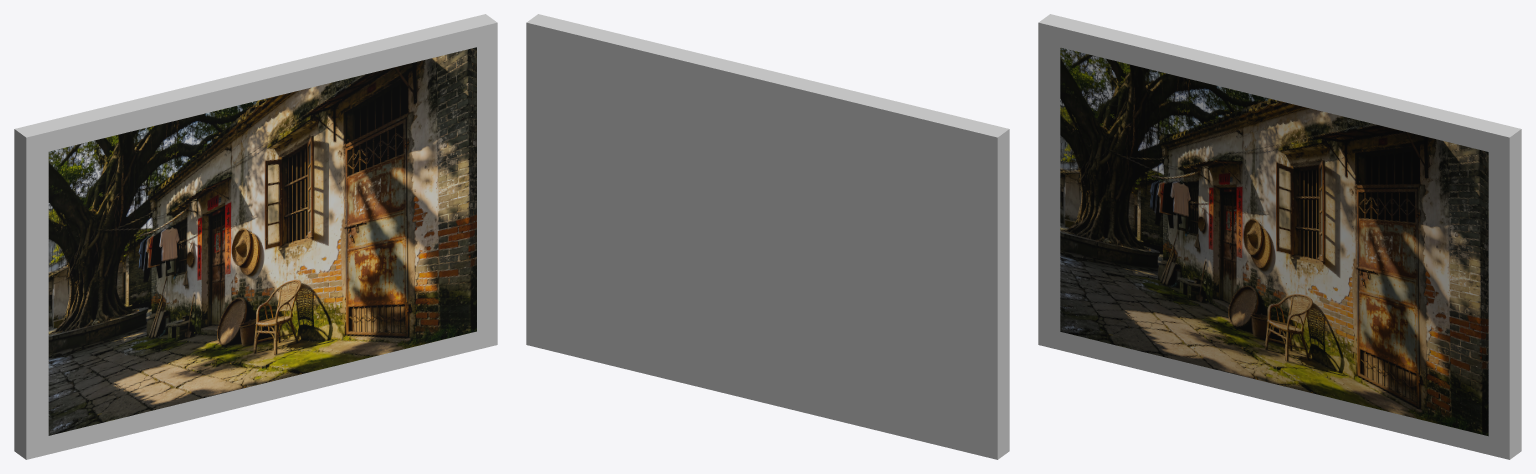
The picture shows the model from 3 angles, left to right: view 1: azimuth 30°, elevation 25°; view 2: azimuth 150°, elevation 25°; view 3: azimuth 330°, elevation 25°; orthographic projection.
Parts seen in each view (by area): view 1: 平面, 立方体; view 2: 立方体; view 3: 平面, 立方体.
Part boxes in pixels (x1,y1,x2,y2): 平面: [48, 47, 476, 435]; 立方体: [14, 14, 497, 459]; 立方体: [526, 14, 1009, 459]; 平面: [1060, 47, 1488, 436]; 立方体: [1038, 14, 1521, 459].
Bounding box in the file's own units: 3.47 × 2.27 × 0.1551.
Materials: 1 (1 with a texture image).
